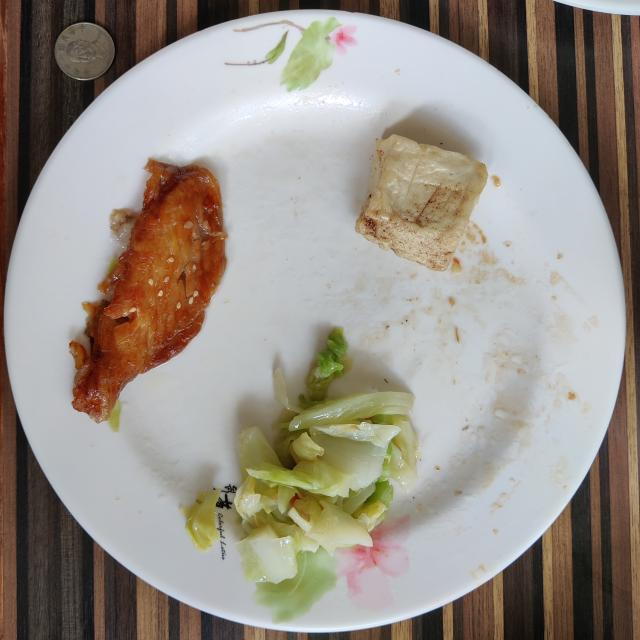Kabayaki sea bream fillet: (70, 160, 226, 422)
cabbage: (234, 329, 419, 584), (182, 490, 220, 551)
coin: (55, 22, 115, 80)
creamy tofu -without sauce-: (355, 135, 488, 271)
